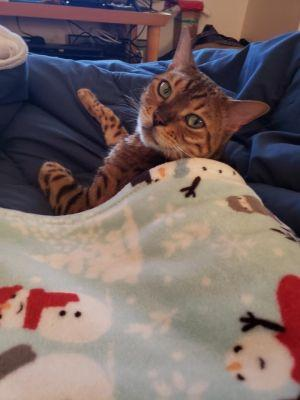bengal: (129, 25, 274, 168)
